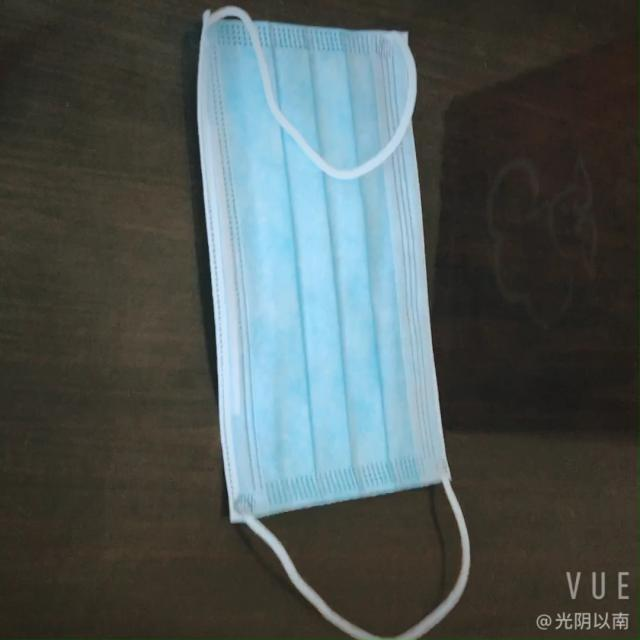face mask: (192, 11, 436, 542)
